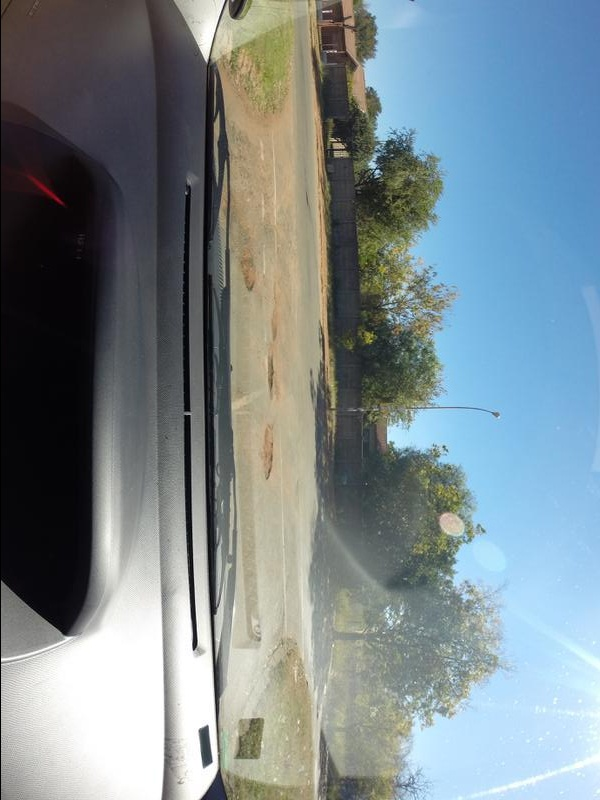pothole: (233, 243, 267, 305), (254, 428, 282, 494), (263, 292, 285, 342), (261, 349, 281, 399)
